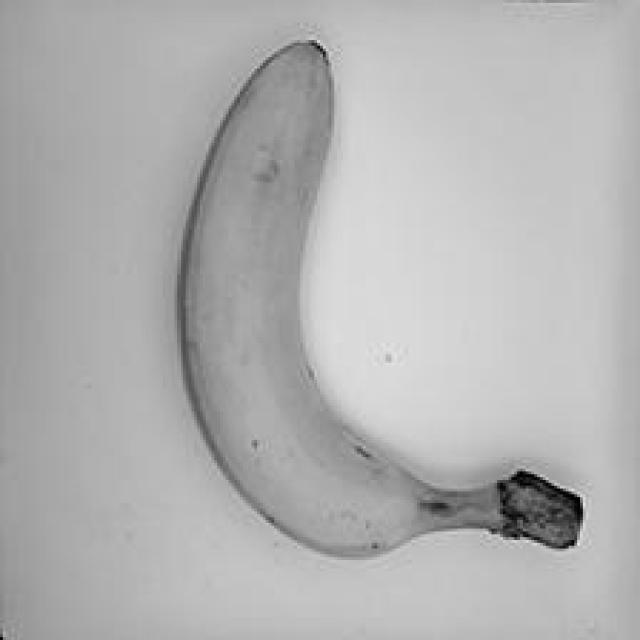Ripe: (162, 31, 596, 574)
